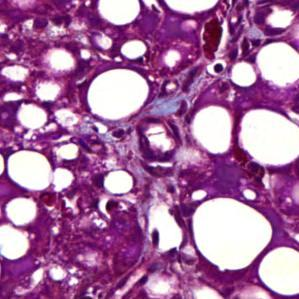steatosis: (190, 197, 274, 270), (87, 67, 152, 120), (192, 102, 232, 159), (9, 148, 60, 191)
